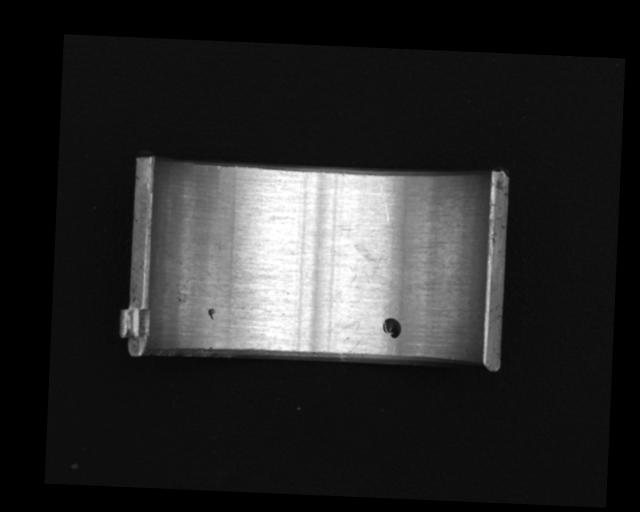blot: (350, 236, 400, 290), (381, 316, 402, 339)
bruise: (206, 305, 216, 320)
nick: (375, 180, 392, 223)
